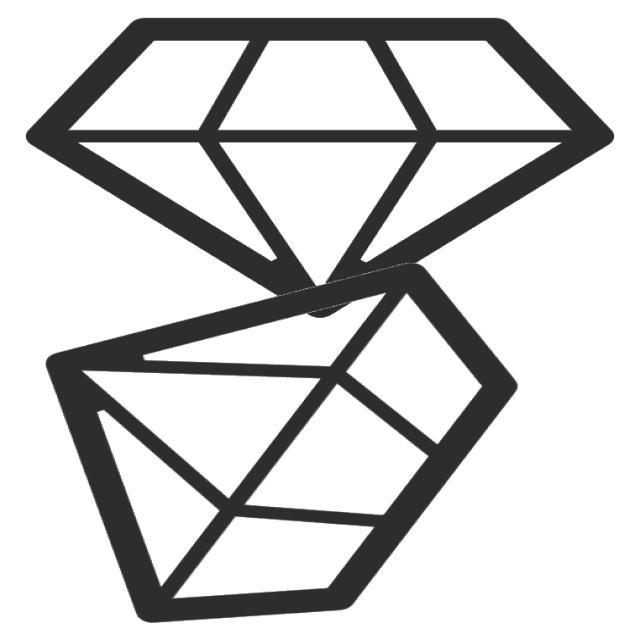diamond: (16, 14, 622, 327), (33, 256, 532, 631)
